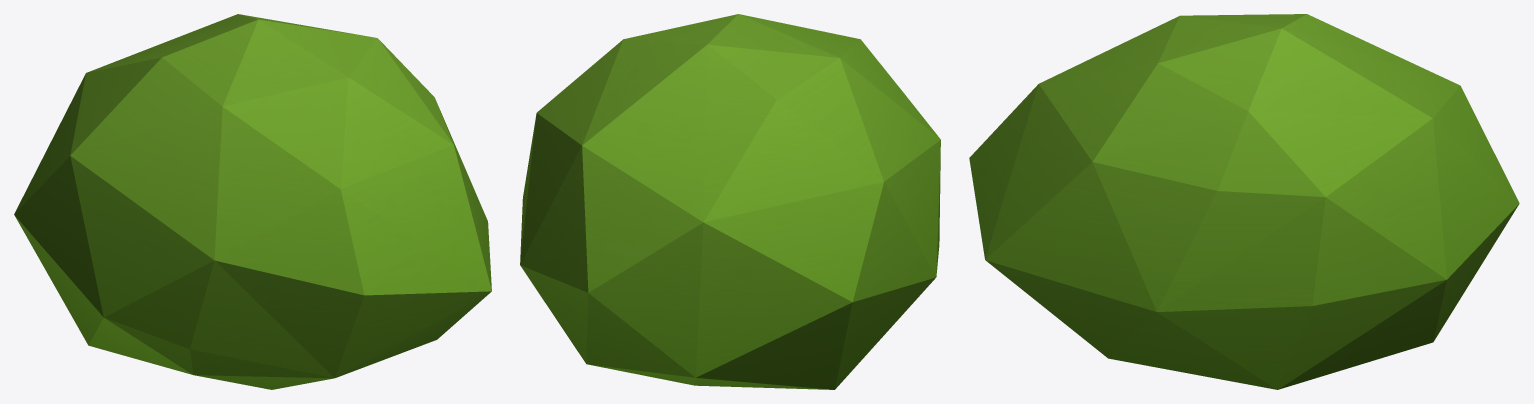
File: Bush_03.fbx
3 views of the same model, side by side, from view 1: azimuth 30°, elevation 25°; view 2: azimuth 150°, elevation 25°; view 3: azimuth 270°, elevation 25° (orthographic). The views are drawn at different scales.
Parts seen in each view (by area): view 1: Bush_03; view 2: Bush_03; view 3: Bush_03.
Part boxes in pixels (x1,y1,x2,y2): Bush_03: (14, 14, 491, 389); Bush_03: (520, 14, 940, 389); Bush_03: (969, 14, 1519, 389).
Bounding box in the file's own units: 94.03 × 77.03 × 119.
